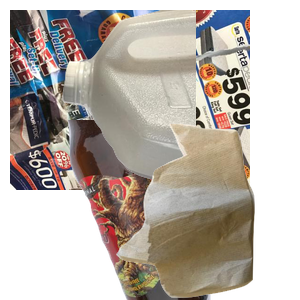glass: (65, 120, 300, 300)
paper: (10, 10, 250, 190)
plastic: (60, 10, 300, 190)
trash: (114, 121, 300, 300)
